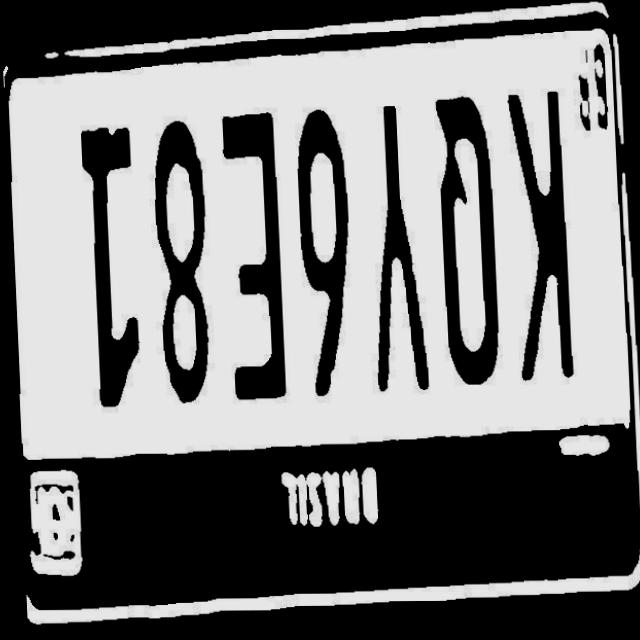1: (60, 121, 140, 414)
6: (273, 102, 353, 403)
8: (138, 127, 210, 413)
e: (201, 104, 290, 405)
k: (490, 80, 586, 386)
q: (421, 87, 507, 397)
y: (343, 98, 431, 400)
